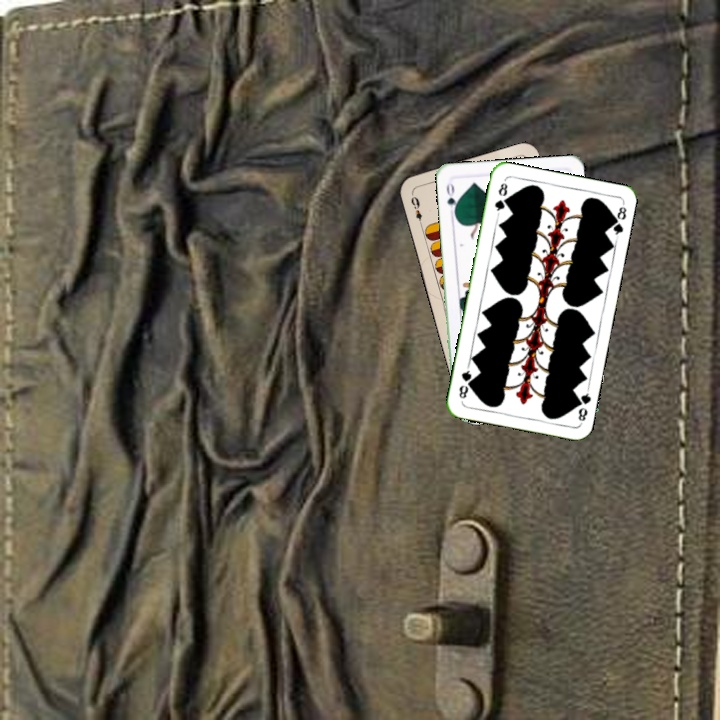E9: (407, 189, 425, 229)
G8: (571, 385, 593, 425), (490, 179, 510, 217)
GO: (442, 178, 461, 218)
